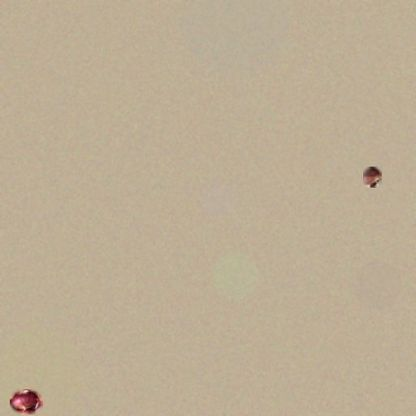healthy: (10, 389, 43, 414)
sprouted: (363, 167, 382, 188)
